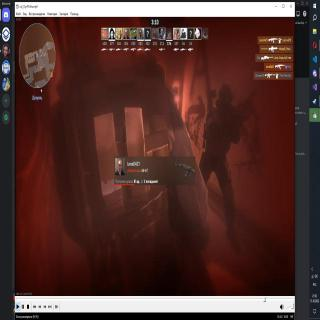CT-Body: (198, 80, 240, 234)
CT-Head: (214, 82, 238, 116)
